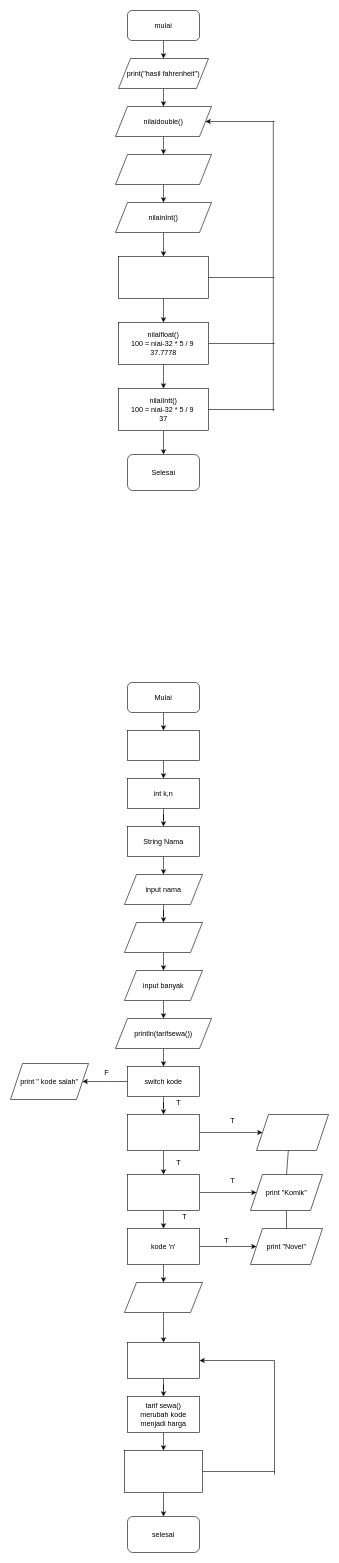
Image size: 339x1563. Some labels were removed from this diagram. Here are the shapes that lost their labels. From the top down, the centre of each, then its label:
[163,169]: nilaifloat()
[163,277]: nilaidouble() 100 = niai-32 * 5 / 9 37.777777
[163,745]: Char kode
[163,937]: input kode
[163,1132]: kode 'c"
[292,1132]: print "Cerpen"
[163,1192]: kode "k'
[163,1297]: print + nama
[163,1360]: jumlahbayar()
[163,1471]: jumlahbayar() total = tarifsewa() * banyak println "jumlah pembayaran"
